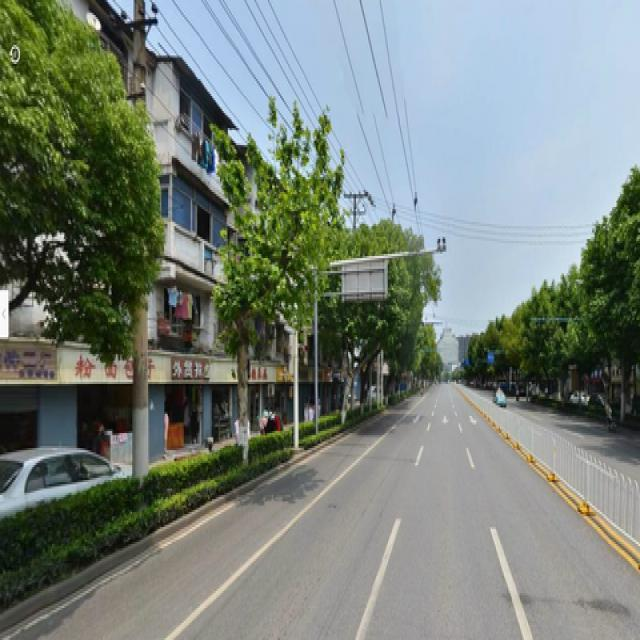meta: (219, 143, 312, 433)
